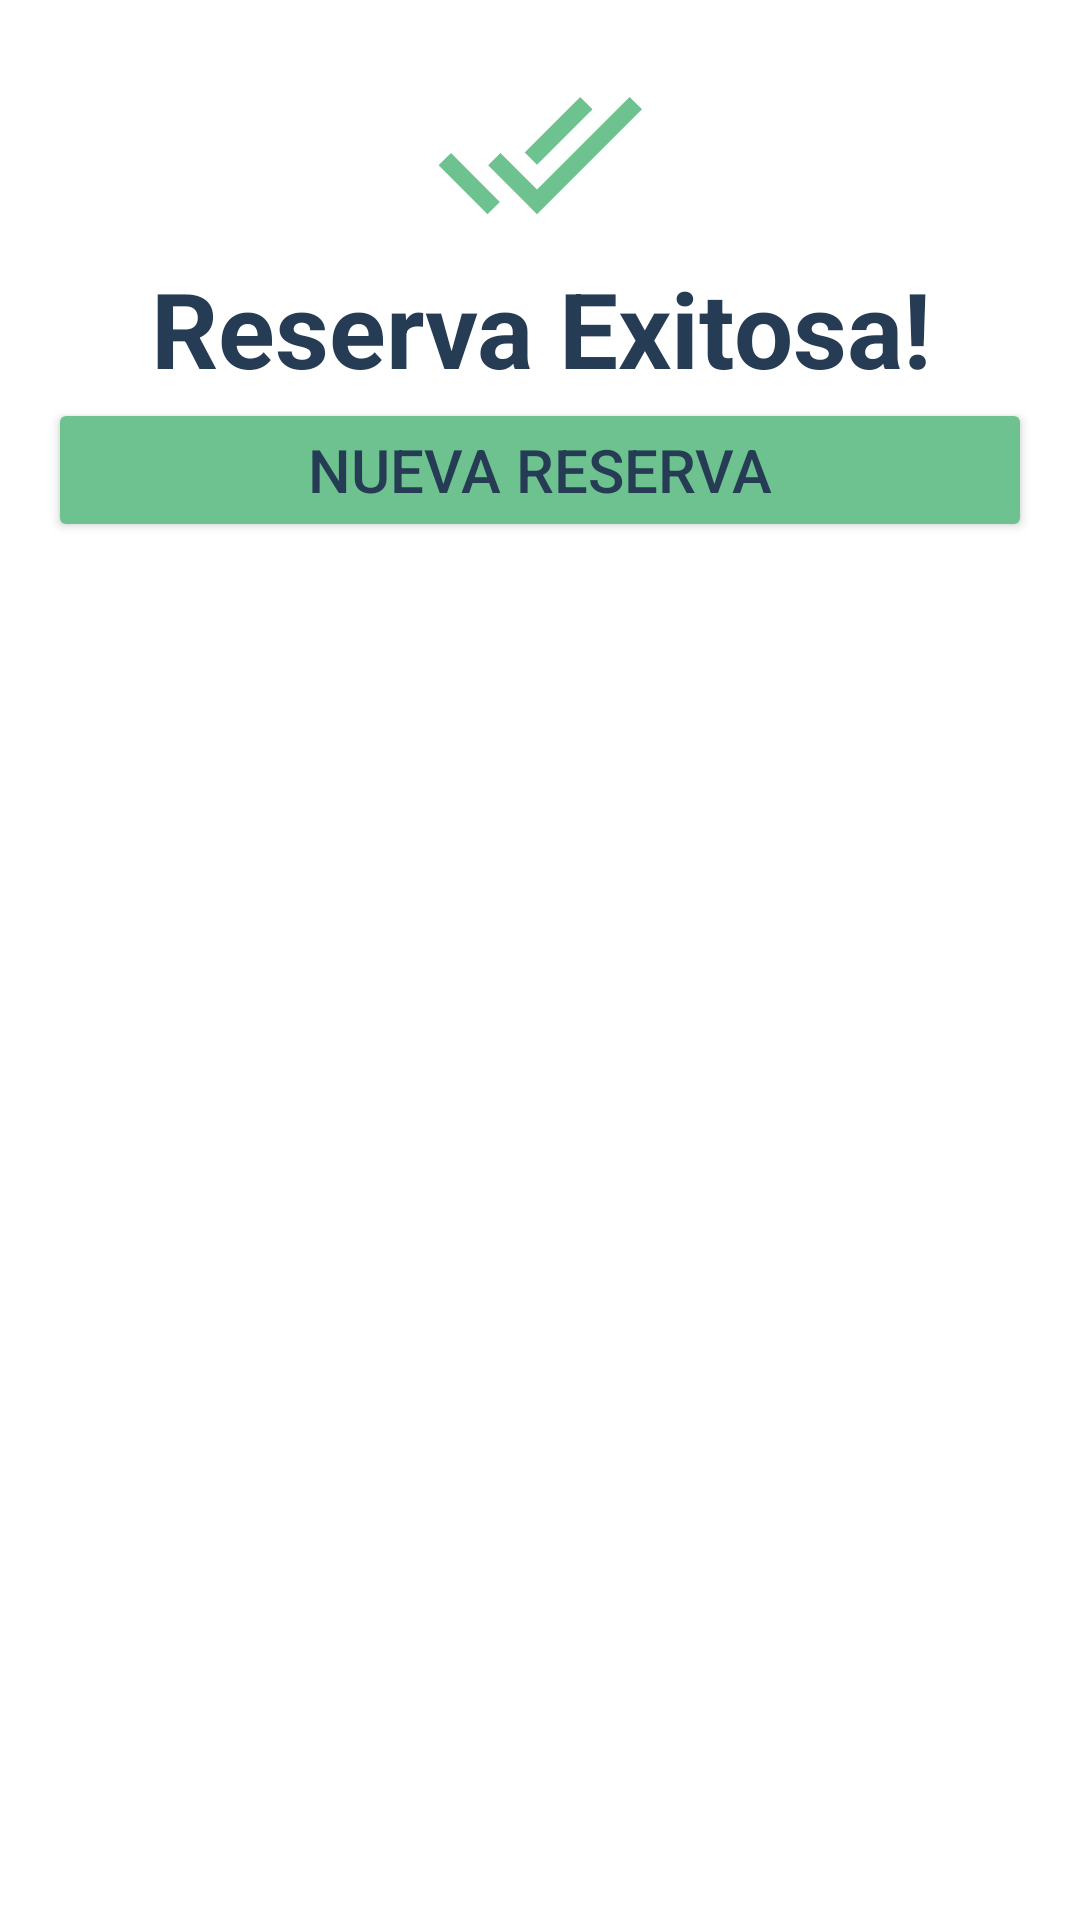

Screen size 1080w x 1920h. Icon name, then its center in pixels as point (x, y):
done all: point (540, 155)
